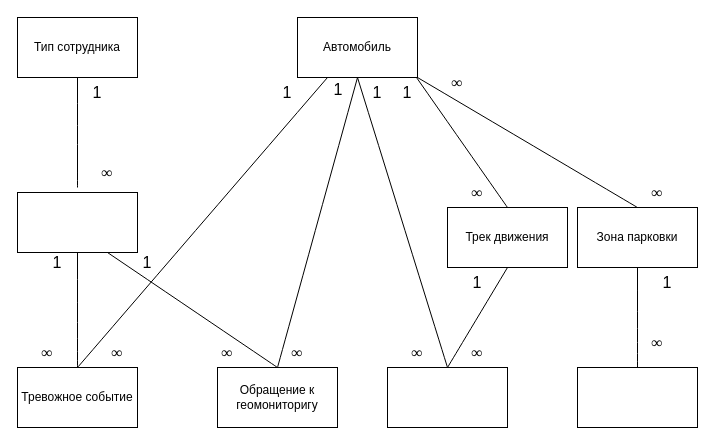
This 715x445 diagram has some shape labels left out. Here are the shapes that lost their labels. From the top down, the box of each, then its label:
(16, 192, 138, 252): Сотрудник
(386, 366, 508, 428): Координаты трека движения
(576, 366, 698, 428): Координаты зоны парковки
